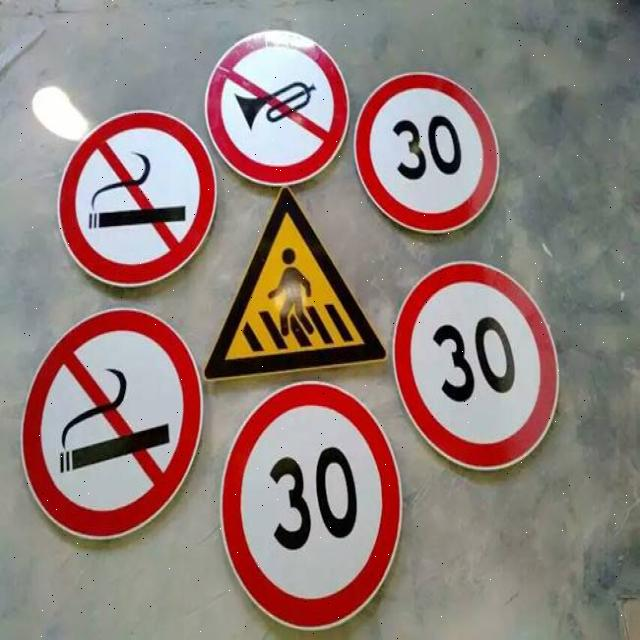speed limit 30: (218, 381, 404, 632), (392, 259, 561, 471), (354, 71, 500, 233)
